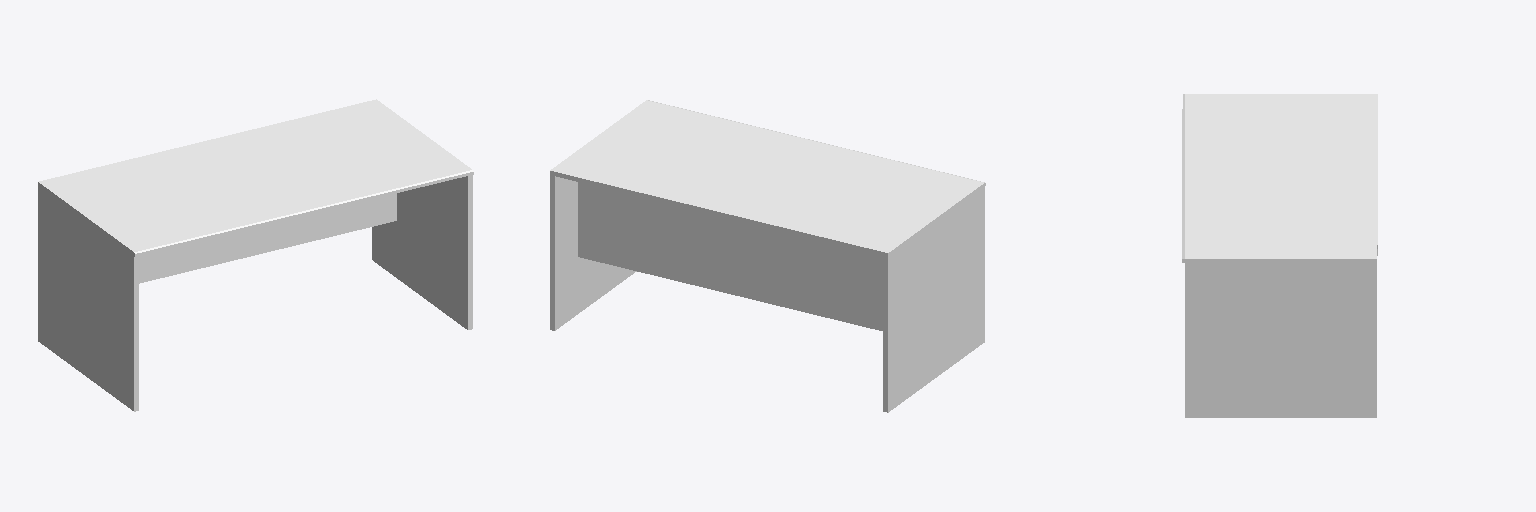
Rendered from desk.obj.
The picture shows the model from 3 angles: view 1: azimuth 30°, elevation 25°; view 2: azimuth 150°, elevation 25°; view 3: azimuth 270°, elevation 25°; orthographic projection.
Parts seen in each view (by area): view 1: Desk_1, Desk_61_2; view 2: Desk_1; view 3: Desk_1.
Boxes of the visible parts, box(x1,y1,x2,y2) form: Desk_1: box(38, 99, 472, 411); Desk_61_2: box(134, 170, 473, 256); Desk_1: box(550, 100, 985, 412); Desk_1: box(1182, 94, 1377, 417).
Size of the model in its own units: 160 by 72 by 80.